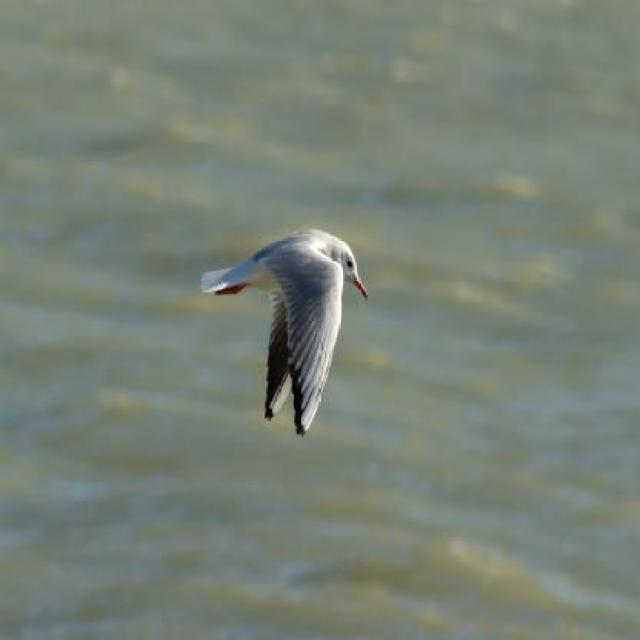bird: (202, 229, 369, 437)
